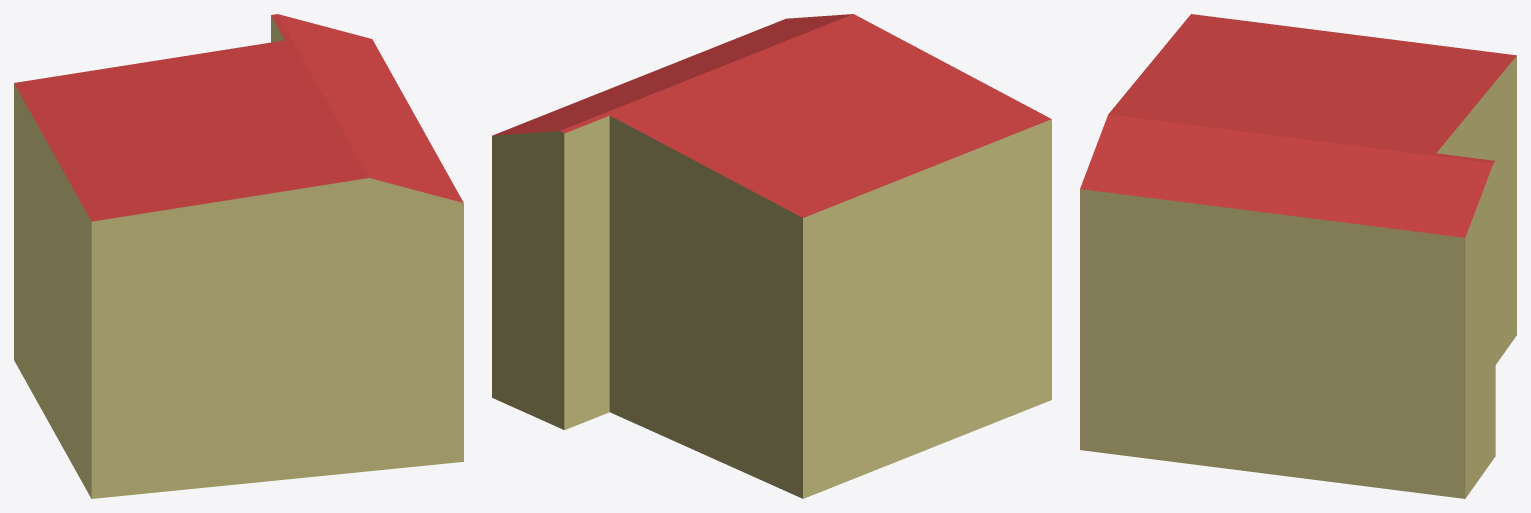
The picture shows the model from 3 angles, left to right: view 1: azimuth 30°, elevation 25°; view 2: azimuth 150°, elevation 25°; view 3: azimuth 270°, elevation 25°; orthographic projection.
Parts seen in each view (by area): view 1: group_4, group_3; view 2: group_4, group_3; view 3: group_4, group_3.
Boxes of the visible parts, bbox=[...] form: group_4: bbox=[14, 16, 463, 498]; group_3: bbox=[14, 14, 463, 221]; group_4: bbox=[492, 115, 1051, 498]; group_3: bbox=[493, 14, 1051, 217]; group_4: bbox=[1080, 56, 1516, 498]; group_3: bbox=[1080, 14, 1516, 237].
Size of the model in its own units: 8.53 by 7.68 by 5.74.
